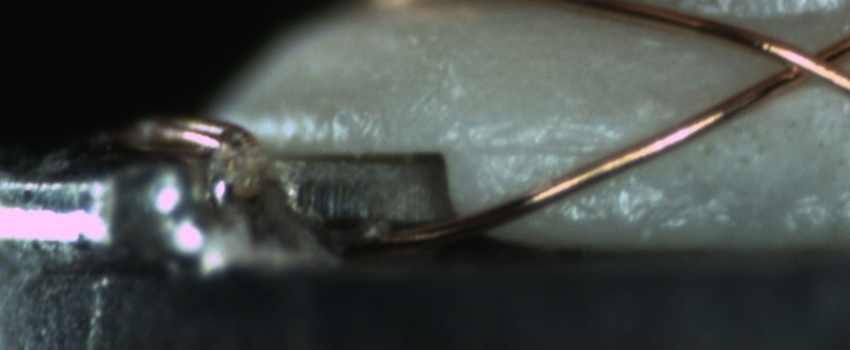CL: (763, 33, 849, 90)
DL: (462, 121, 626, 185)
TE: (127, 104, 265, 204)
